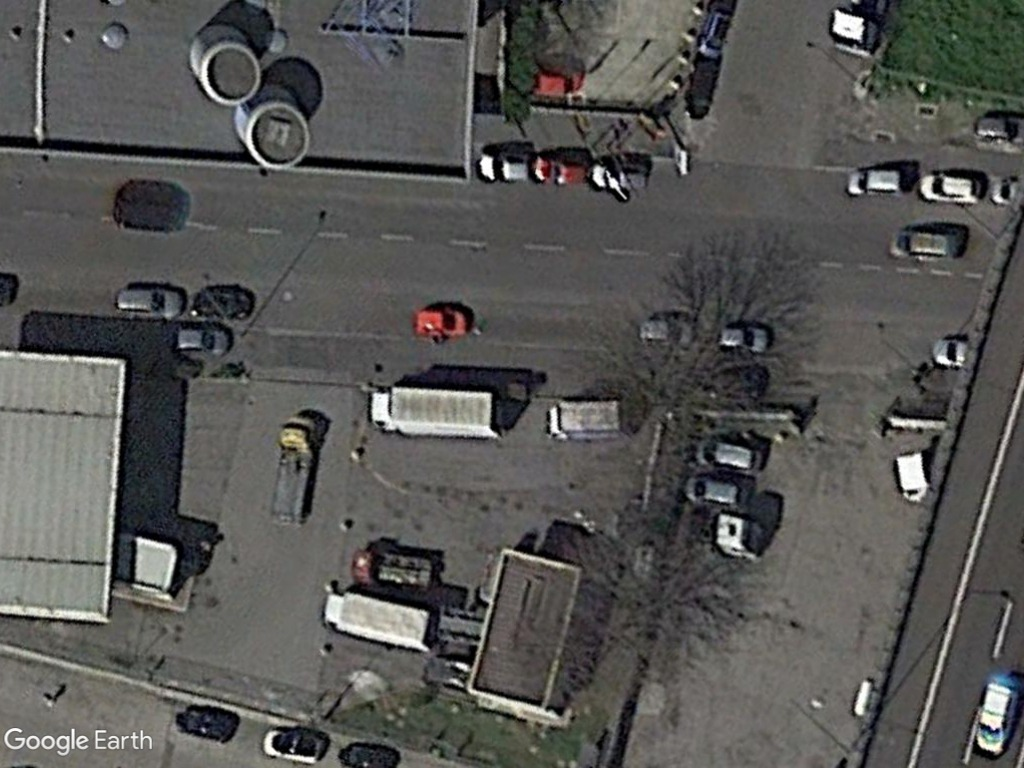car: (256, 723, 332, 767), (681, 471, 754, 514), (108, 283, 189, 321), (919, 169, 986, 208), (411, 304, 478, 341), (471, 149, 538, 186), (844, 164, 914, 199), (714, 322, 775, 357), (171, 327, 232, 357)
other: (269, 410, 331, 529)
truck: (365, 381, 509, 445), (320, 589, 441, 656), (542, 394, 633, 445)
van: (974, 675, 1023, 761)
